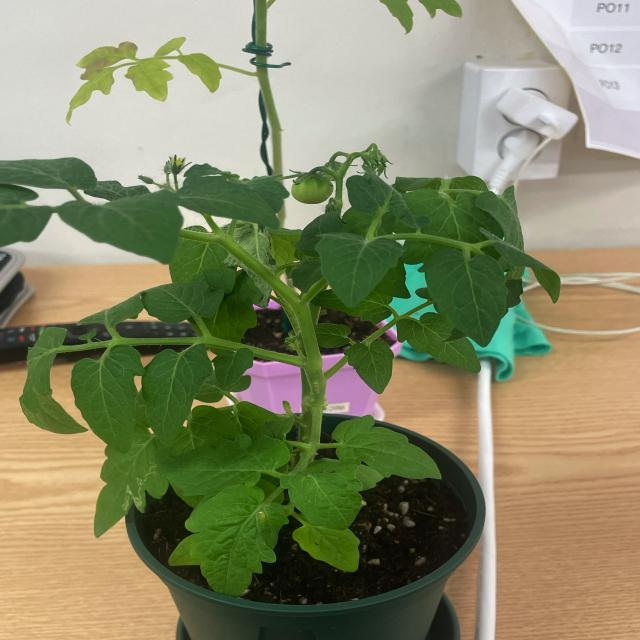level 1: (288, 173, 338, 205), (325, 161, 346, 182)
